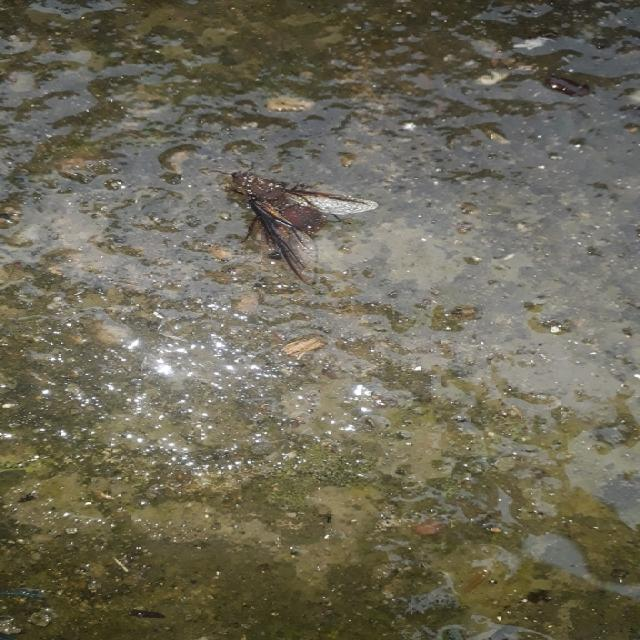Alive-Female-Alate: (211, 165, 379, 286)
